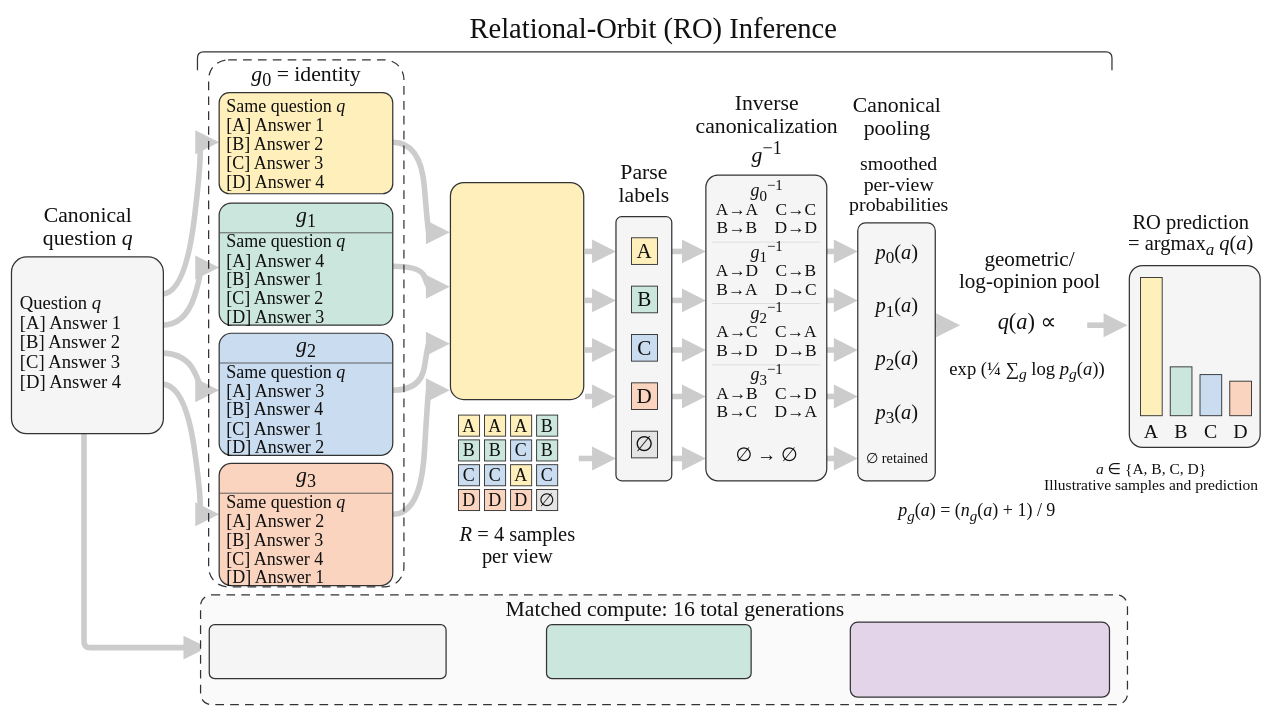
Some shapes in this 1286 by 715 pixel diagram are drawn without their labels. Here are the shapes that lost their labels. From the top down, the box of each, then its label:
(450, 182, 584, 400): Frozen language model
(208, 624, 446, 679): Root baseline: identity view × 16 samples
(546, 624, 751, 679): RO: 4 cyclic views × 4 samples
(849, 621, 1110, 698): Randomized-map control: 4 views × 4 samples with randomized inverse maps
